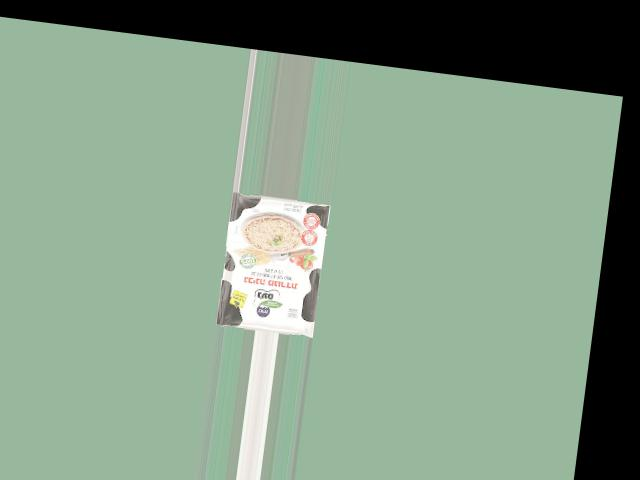cheese: (214, 197, 346, 329)
